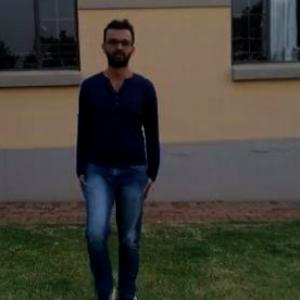follow: (72, 13, 158, 291)
